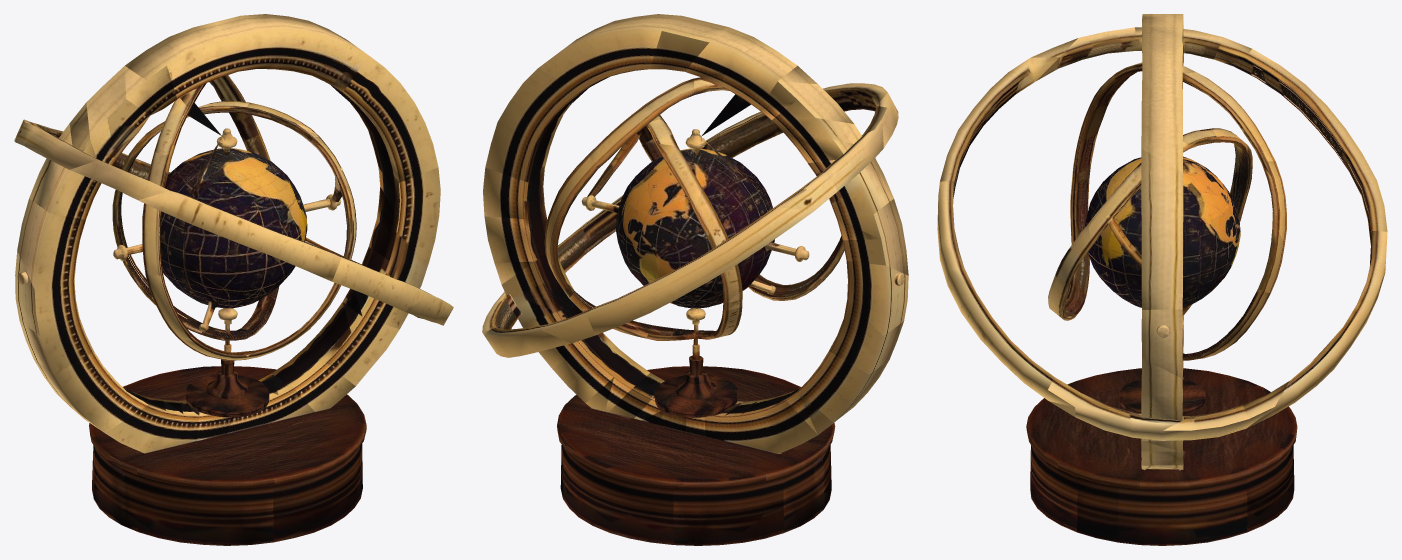
Rendered from armillary.glb.
3 renders of one model, left to right at view 1: azimuth 30°, elevation 25°; view 2: azimuth 150°, elevation 25°; view 3: azimuth 270°, elevation 25°, orthographic.
Size of the model in its own units: 0.8449 by 0.9 by 0.8113.
Materials: 1 (1 with a texture image).
